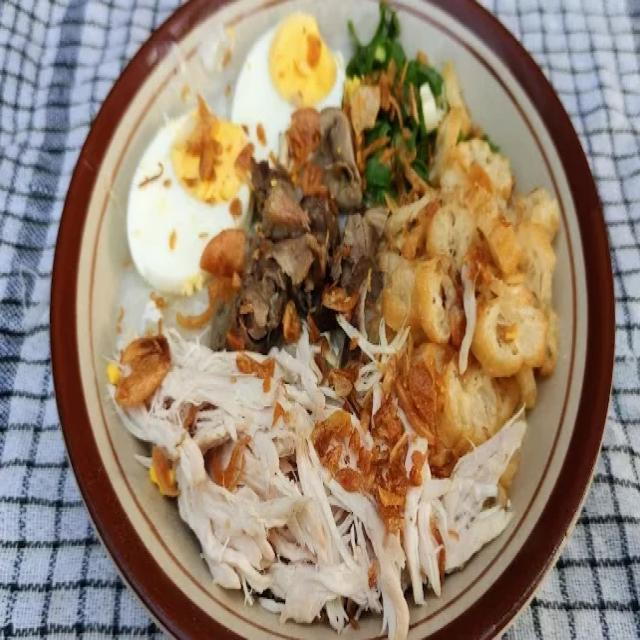bubur ayam: (111, 46, 564, 638)
mangkuk: (48, 0, 617, 639)
telur rebus: (125, 110, 249, 296), (230, 15, 344, 156)
